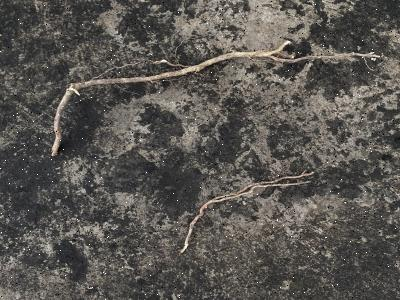Root: (52, 40, 380, 156), (180, 170, 314, 253)
